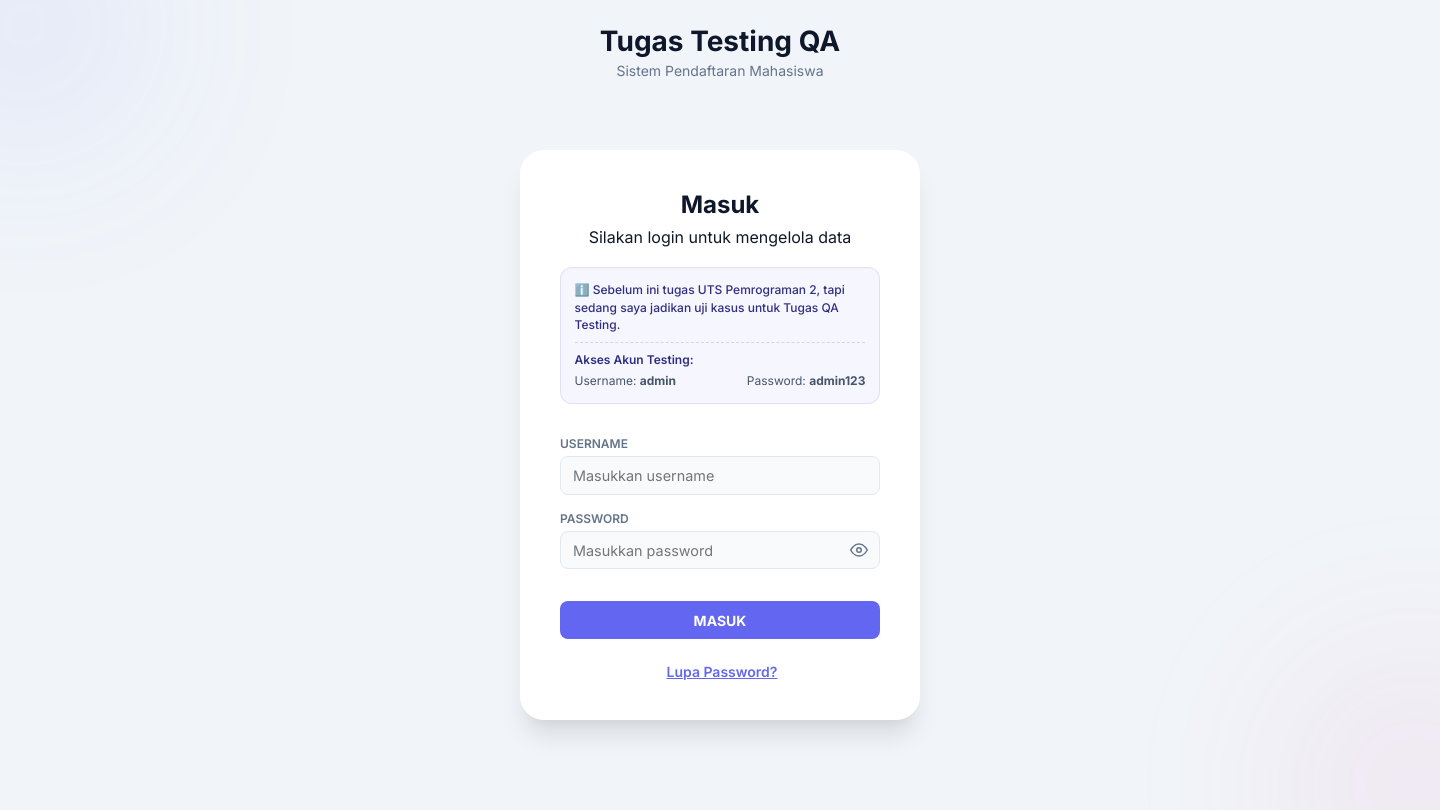
Scenario: App Component › Student Management - CRUD Flow › 21. should delete student after confirmation
Type "admin" into the field labelled "Username" at [720, 476], box [560,456,880,495]
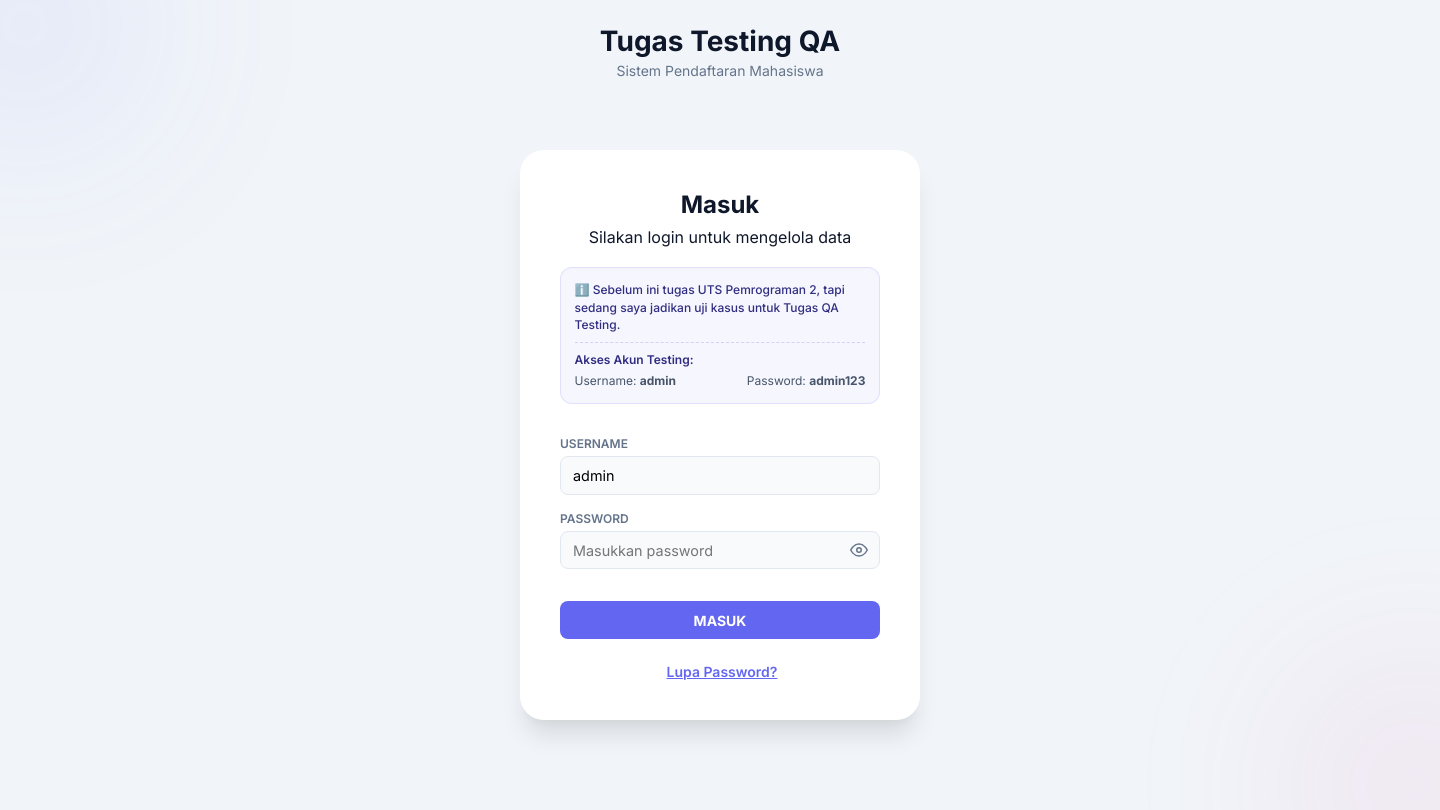
Type "admin123" into the password field labelled "Password" at [720, 550], box [560,531,880,570]
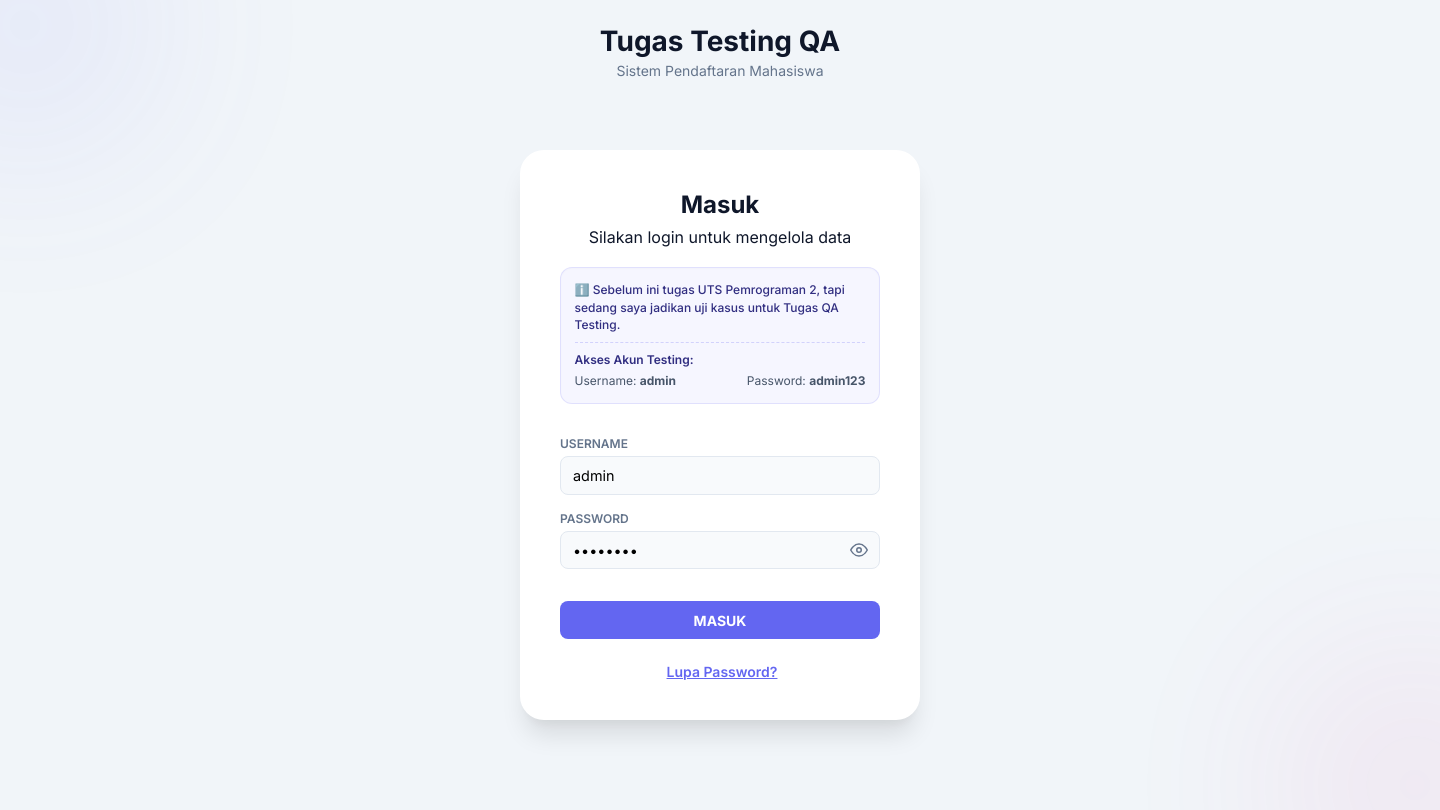
Click the button "MASUK" at [720, 620], box [560,602,880,639]
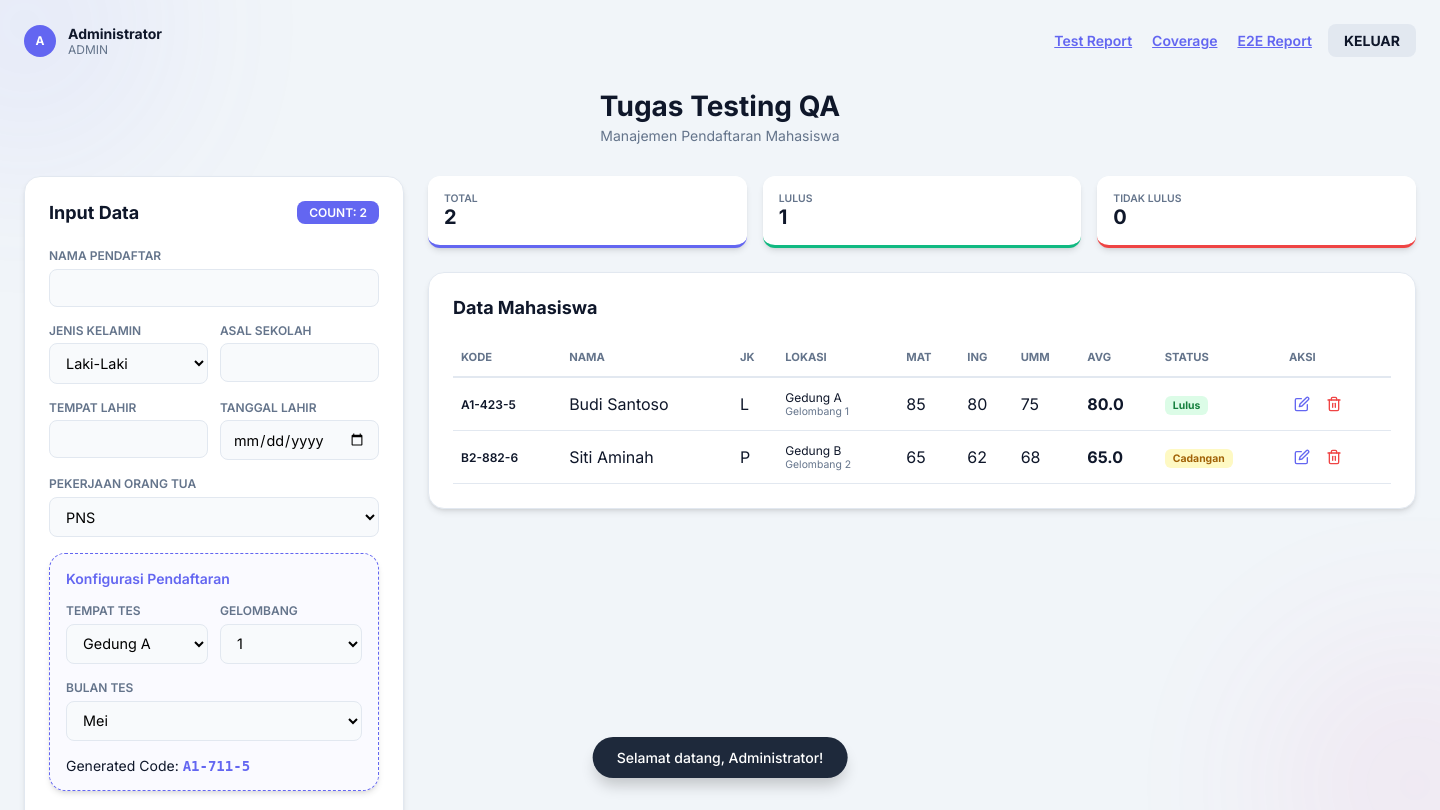
Click the 3rd button at [1334, 404], box [1320,390,1347,418]
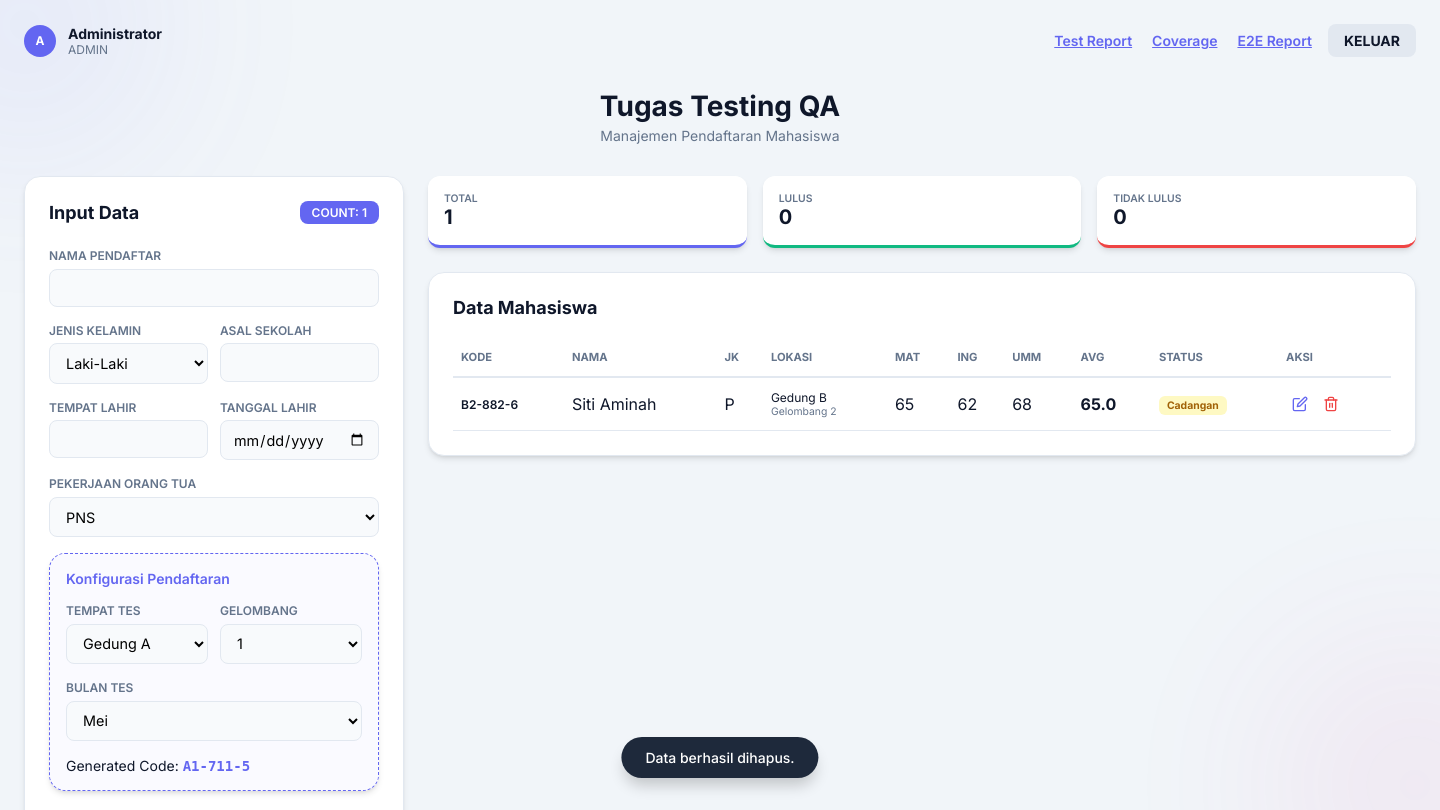
Check: the text "Budi Santoso" is gone
